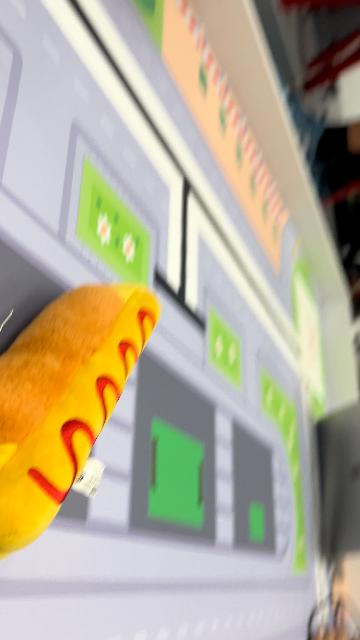hotdog: (1, 280, 162, 560)
